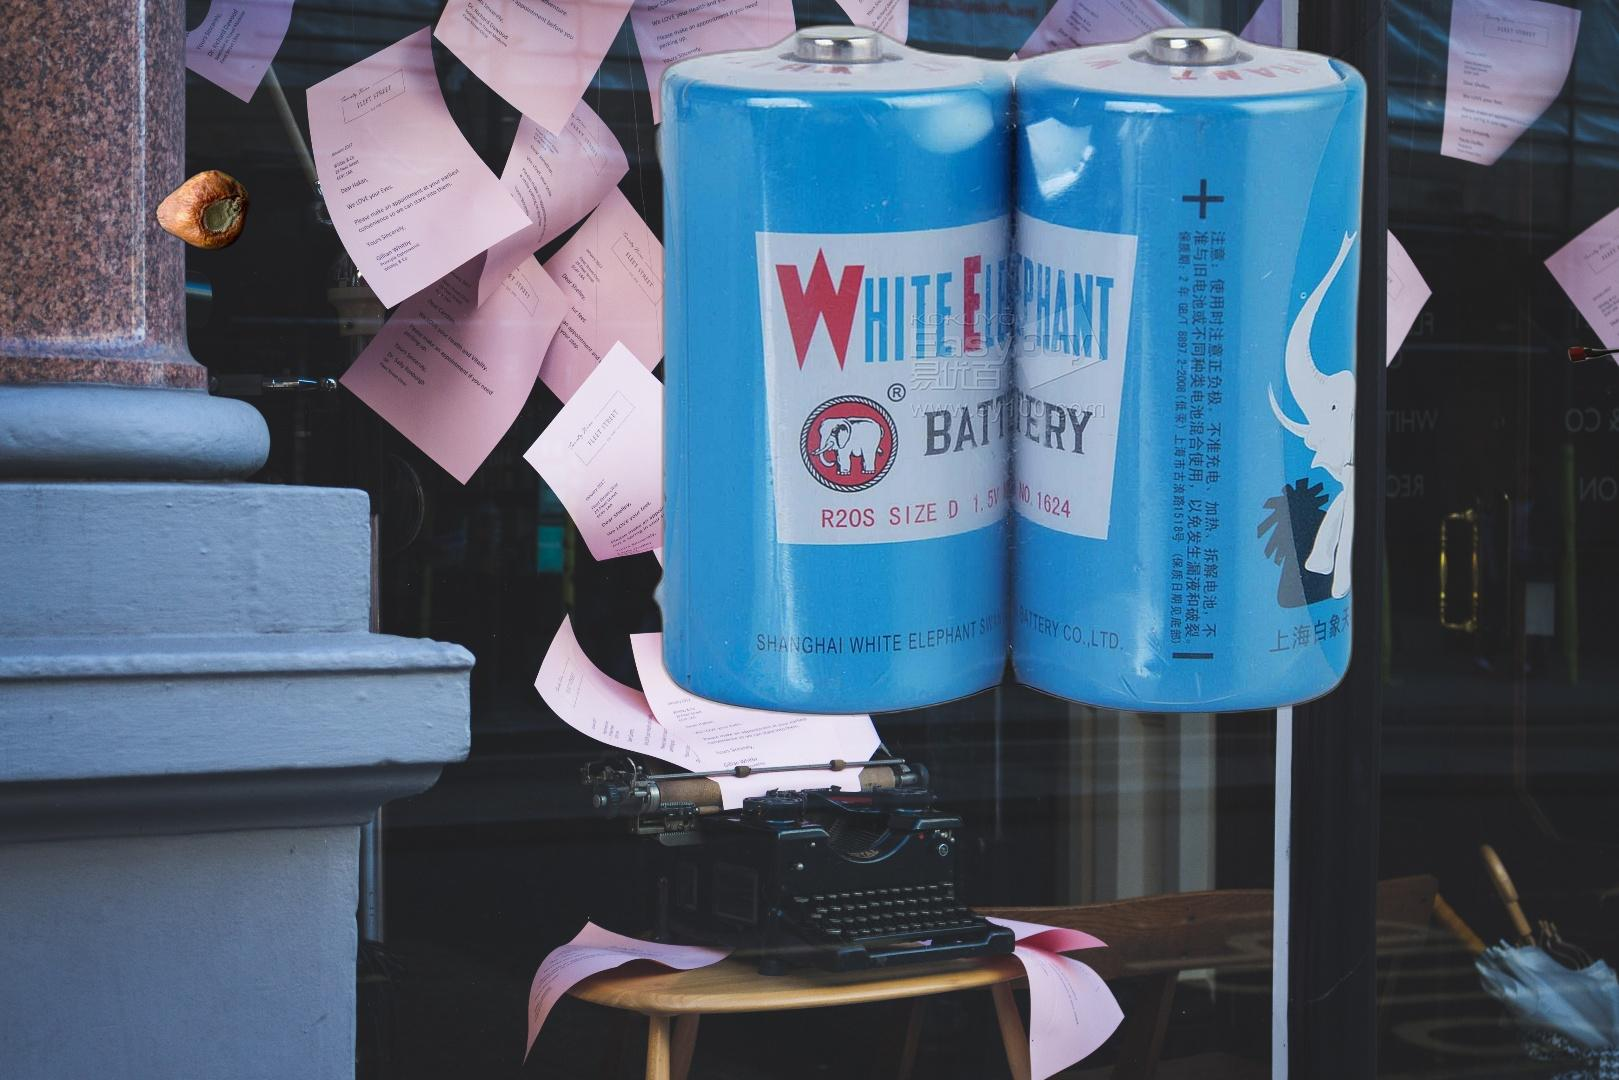battery: (647, 17, 1375, 723), (1562, 184, 1619, 387)
biological: (128, 168, 253, 253)
